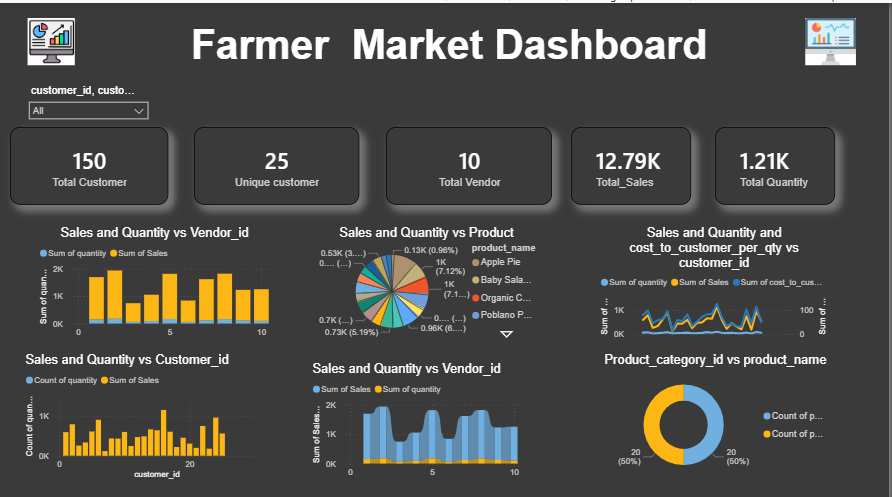

The dashboard page shown, as its layout file describes it:
{"tool":"powerbi","page":{"name":"Sales and quantity waise analysis","canvas":[1280,720],"ordinal":2},"visuals":[{"type":"columnChart","title":"Sales and  Quantity vs Customer_id","fields":{"Category":["customer_purchases.customer_id"],"Y":["CountNonNull(customer_purchases.quantity)","Sum(customer_purchases.Sales)"]},"box":[31.7,502.6,347,188.6],"z":0},{"type":"slicer","fields":{"Values":["customer_purchases.customer_id","customer_purchases.customer_id","customer_purchases.quantity"]},"box":[31.7,112.3,191.5,96.5],"z":1000},{"type":"cardVisual","fields":{"Data":["Sum(customer_purchases.quantity)"]},"box":[1029.6,178.6,172.8,112.3],"z":2000},{"type":"pieChart","title":"Sales and Quantity vs Product","fields":{"Category":["dirty_product.product_name"],"Y":["Sum(customer_purchases.quantity)","Sum(customer_purchases.Sales)"]},"box":[445,319.7,338.4,169.9],"z":3000},{"type":"ribbonChart","title":"Sales and Quantity vs Vendor_id","fields":{"Category":["customer_purchases.vendor_id"],"Y":["Sum(customer_purchases.Sales)","Sum(customer_purchases.quantity)"]},"box":[445,515.5,311,175.7],"z":4000},{"type":"columnChart","title":"Sales and Quantity vs Vendor_id","fields":{"Category":["dirty_vendor.vendor_id"],"Y":["Sum(customer_purchases.quantity)","Sum(customer_purchases.Sales)"]},"box":[51.8,319.7,341.3,169.9],"z":5000},{"type":"donutChart","title":" Product_category_id vs product_name","fields":{"Y":["CountNonNull(dirty_product.product_category_id)","CountNonNull(dirty_product.product_name)"]},"box":[865.4,502.6,337,188.6],"z":6000},{"type":"textbox","box":[128.2,21.6,1036.8,80.6],"z":7000},{"type":"image","box":[18.7,21.6,109.4,67.7],"z":8000},{"type":"image","box":[1150.6,21.6,90.7,67.7],"z":9000},{"type":"cardVisual","fields":{"Data":["Count(customer_purchases.vendor_id)"]},"box":[555.8,178.6,239,112.3],"z":10000},{"type":"cardVisual","fields":{"Data":["CountNonNull(customer_purchases.customer_id)"]},"box":[14.4,178.6,227.5,112.3],"z":11000},{"type":"lineChart","title":"Sales and Quantity and cost_to_customer_per_qty vs customer_id","fields":{"Category":["customer_purchases.customer_id"],"Y":["Sum(customer_purchases.quantity)","Sum(customer_purchases.Sales)"],"Y2":["Sum(customer_purchases.cost_to_customer_per_qty)"]},"box":[859.7,319.7,337,169.9],"z":12000},{"type":"cardVisual","fields":{"Data":["Count(customer_purchases.customer_id)"]},"box":[279.4,178.6,237.6,112.3],"z":13000},{"type":"cardVisual","fields":{"Data":["customer_purchases.Total_Sales"]},"box":[822.2,178.6,172.8,112.3],"z":13001}]}

Visuals, with their boxes in screenshot pixels (x1, y1, x2, y2), scaled from the page's 1280x720 canvas onto the 892x497 screenshot:
"Sales and  Quantity vs Customer_id" columnChart: [22, 347, 264, 477]
slicer - customer_purchases.customer_id x customer_purchases.customer_id: [22, 78, 156, 144]
cardVisual - Sum(customer_purchases.quantity): [718, 123, 838, 201]
"Sales and Quantity vs Product" pieChart: [310, 221, 546, 338]
"Sales and Quantity vs Vendor_id" ribbonChart: [310, 356, 527, 477]
"Sales and Quantity vs Vendor_id" columnChart: [36, 221, 274, 338]
" Product_category_id vs product_name" donutChart: [603, 347, 838, 477]
textbox: [89, 15, 812, 71]
image: [13, 15, 89, 62]
image: [802, 15, 865, 62]
cardVisual - Count(customer_purchases.vendor_id): [387, 123, 554, 201]
cardVisual - CountNonNull(customer_purchases.customer_id): [10, 123, 169, 201]
"Sales and Quantity and cost_to_customer_per_qty vs customer_id" lineChart: [599, 221, 834, 338]
cardVisual - Count(customer_purchases.customer_id): [195, 123, 360, 201]
cardVisual - customer_purchases.Total_Sales: [573, 123, 693, 201]
